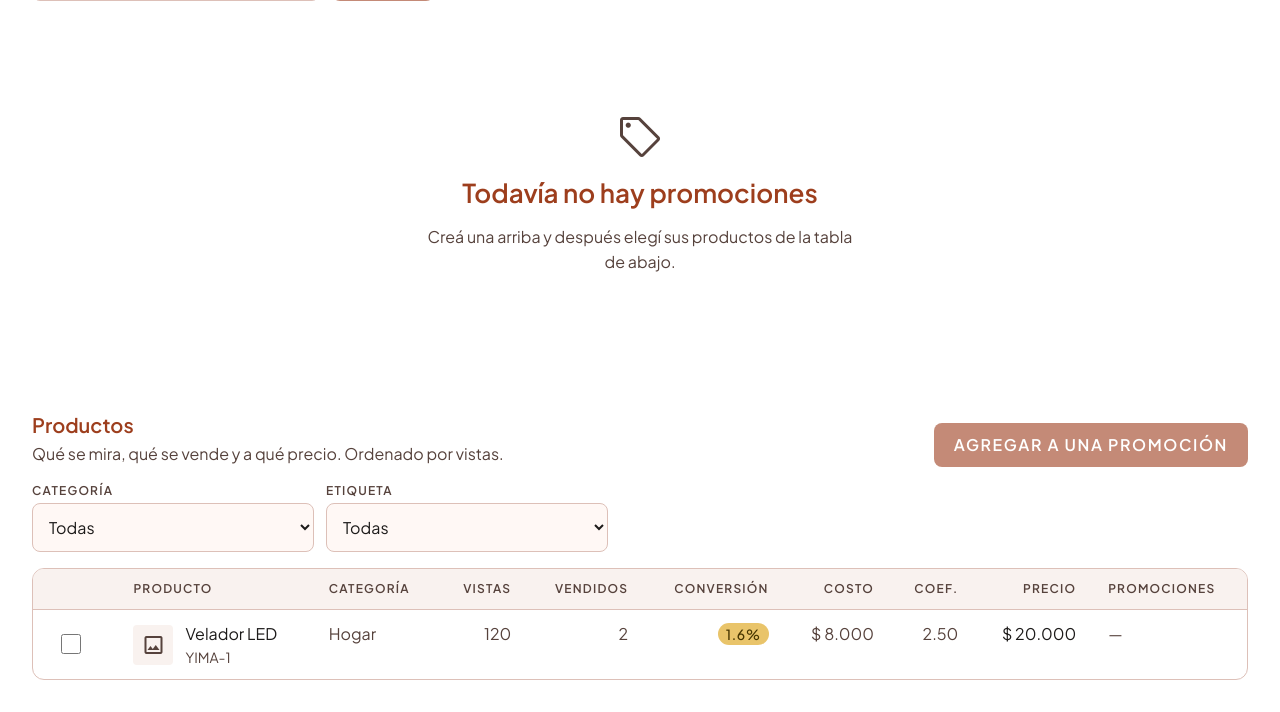
it: AdminPromociones — filtros de categoría y etiqueta › cambiar un filtro limpia la selección de checkboxes
(page scrolled)
Expected: the text "Velador LED" is shown, [185,622,277,647]
Click the checkbox named "Seleccionar Velador LED".
click(71, 644)  # box [61,634,81,654]
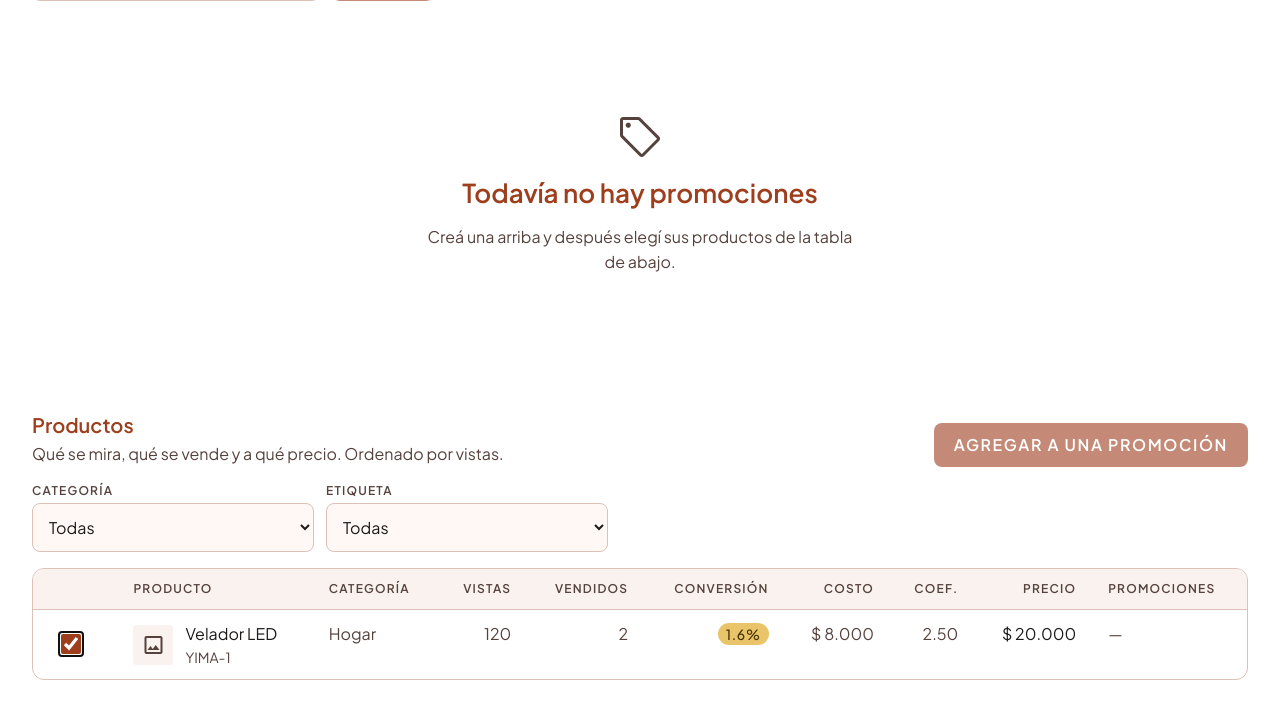
Expected: the checkbox named "Seleccionar Velador LED" is checked, [61,634,81,654]
Select "Hogar" in the dropdown labelled "Categoría" at (173, 528), box [32,503,314,552]
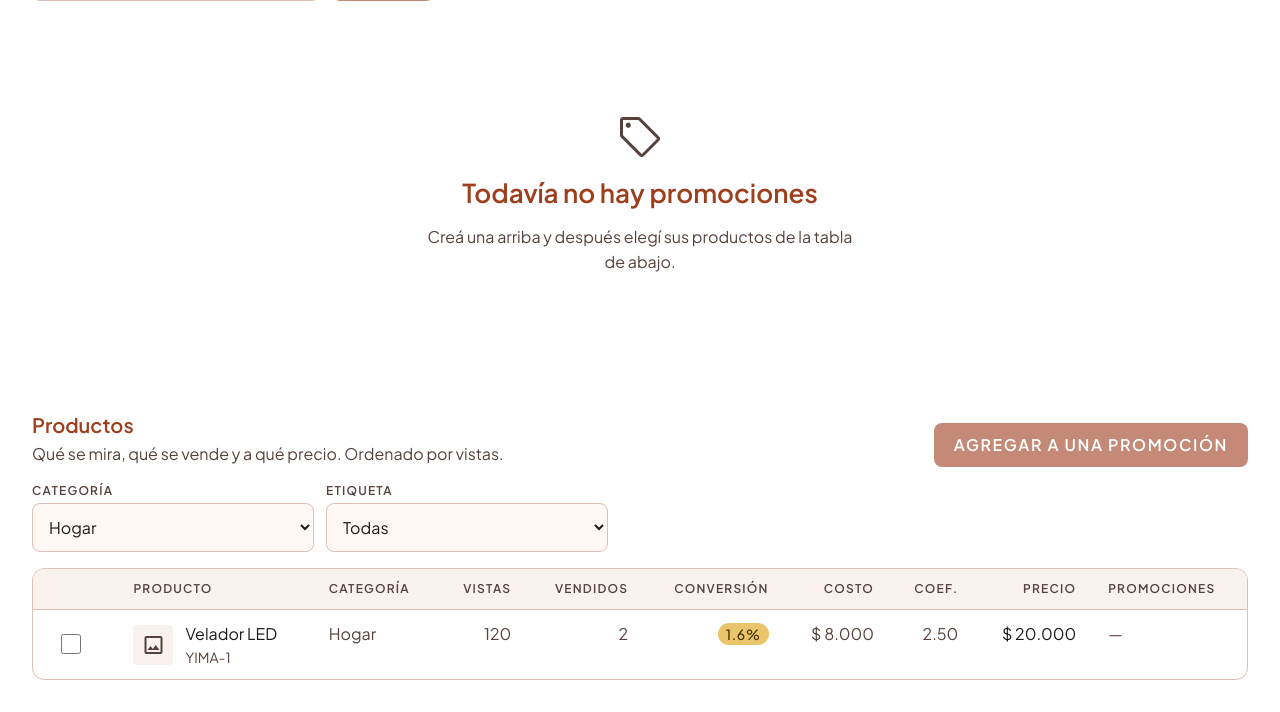
Expected: the checkbox named "Seleccionar Velador LED" is not checked, [61,634,81,654]
